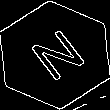N_SE: (21, 23, 89, 87)
